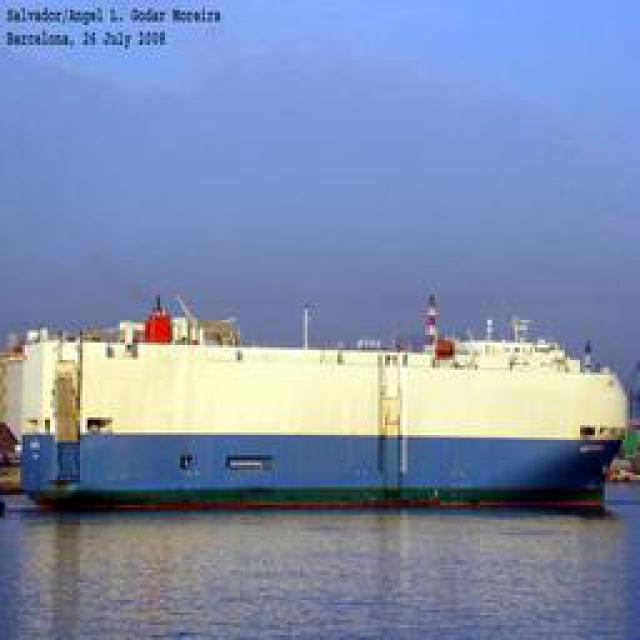Ship: (10, 324, 630, 514)
